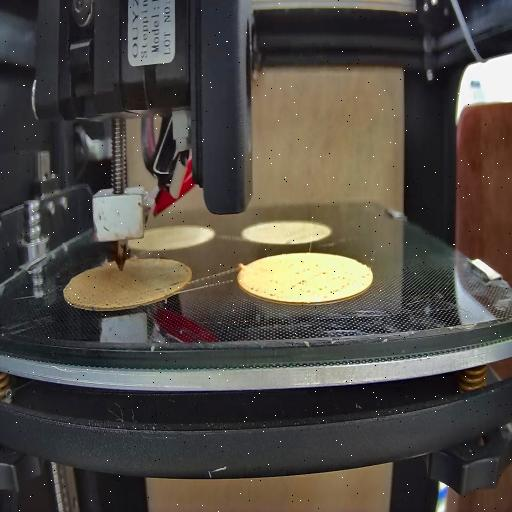under_extrusion: (292, 264, 356, 302), (66, 289, 116, 317), (150, 274, 184, 298), (249, 282, 281, 302)
